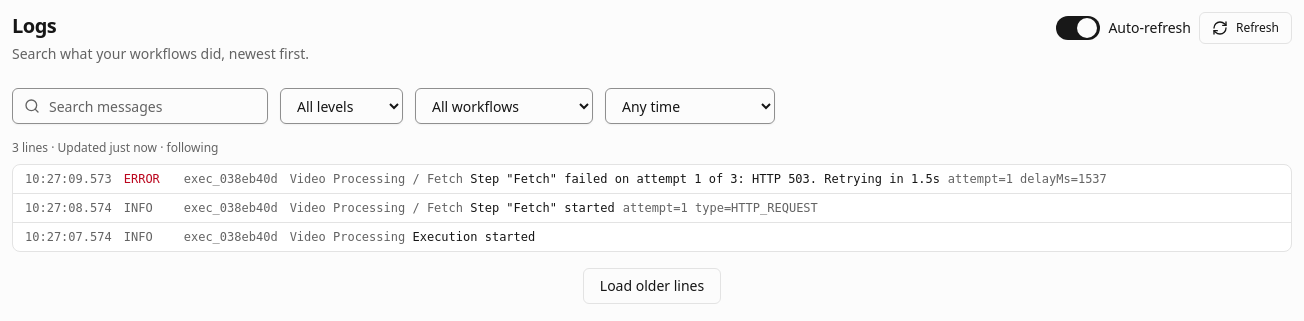
LogsPage › loads older lines with the cursor and appends them
expect the text "An older line" is not shown: met
Click the button "Load older lines". click: (652, 286)
box: [583,268,721,304]
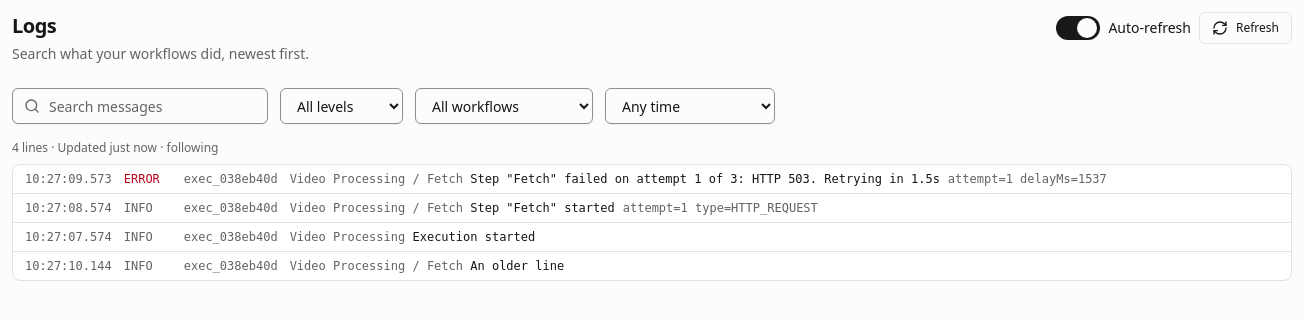
expect the text "Execution started" is shown: met, box [412,230,535,244]
expect the text "An older line" is shown: met, box [470,259,564,273]
expect the button "Load older lines" is gone: met
